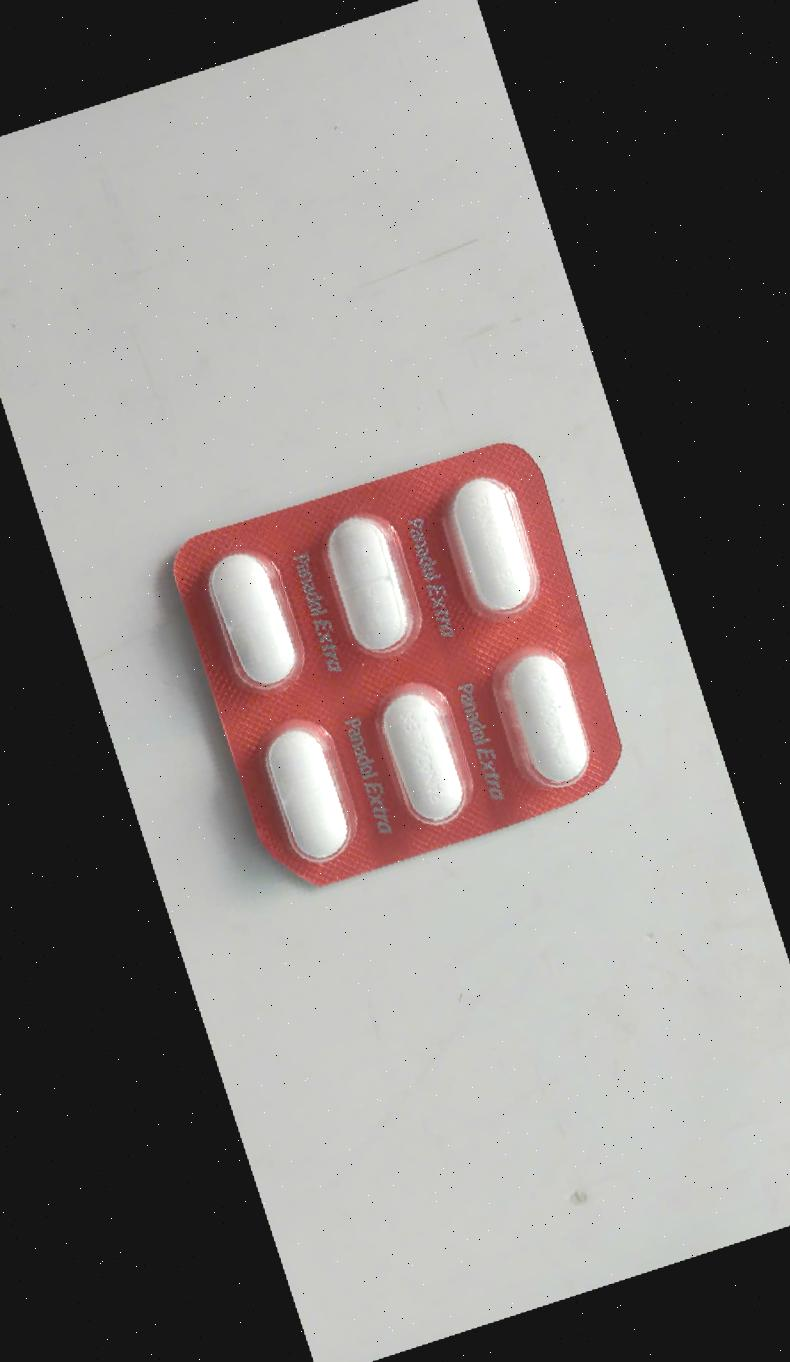Full: (187, 533, 320, 703), (304, 503, 437, 673), (424, 461, 557, 631), (363, 669, 496, 839), (244, 707, 377, 876), (484, 632, 617, 801)
